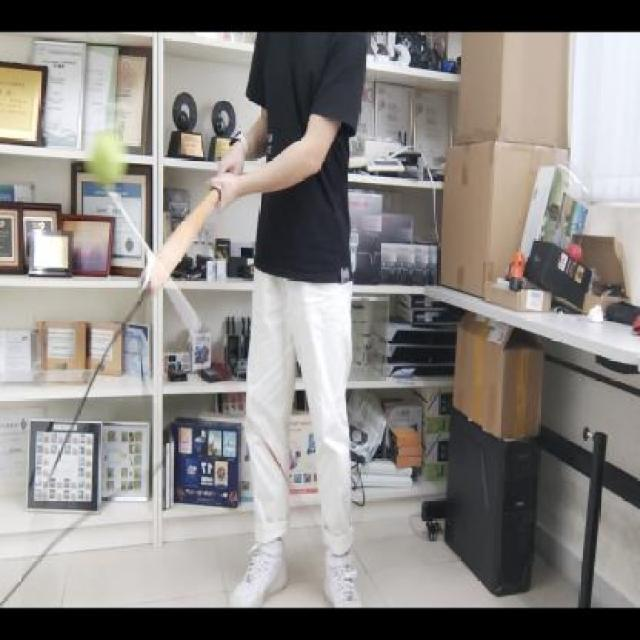baseball: (84, 125, 130, 187)
